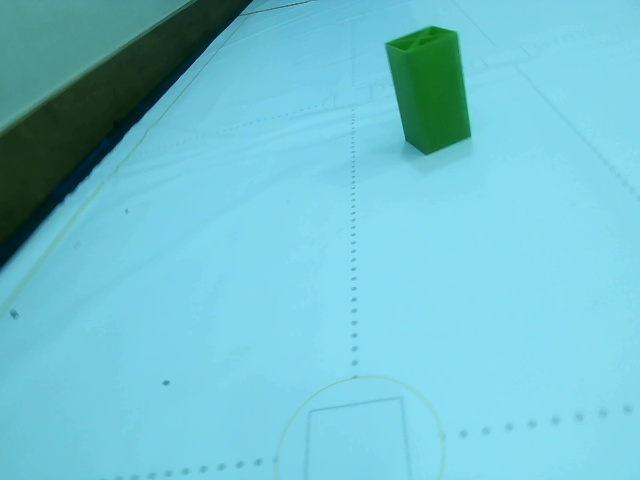green: (390, 36, 466, 147)
